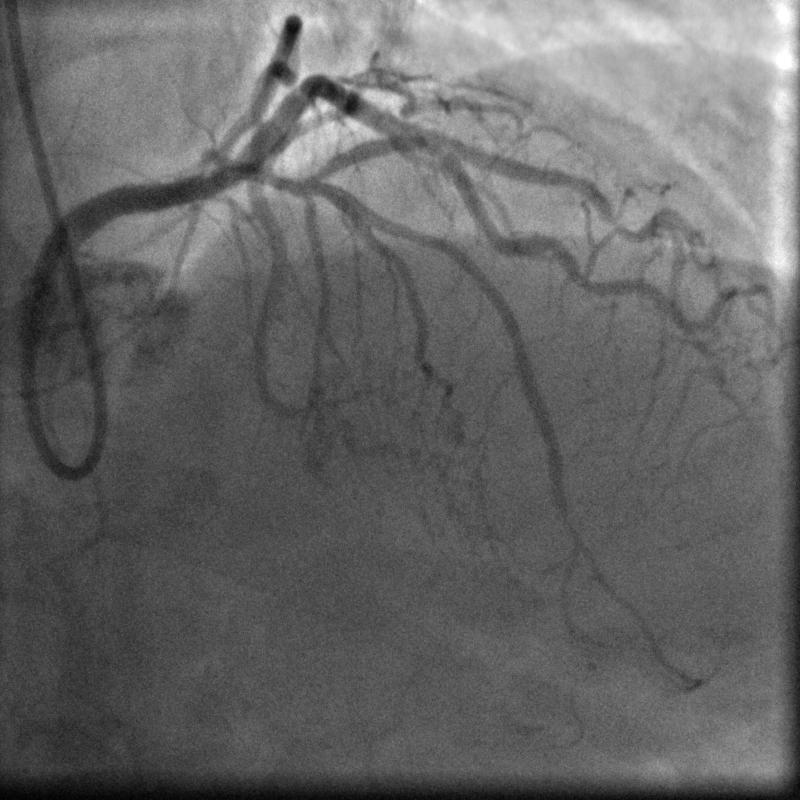Stenosis: (409, 129, 458, 173)
